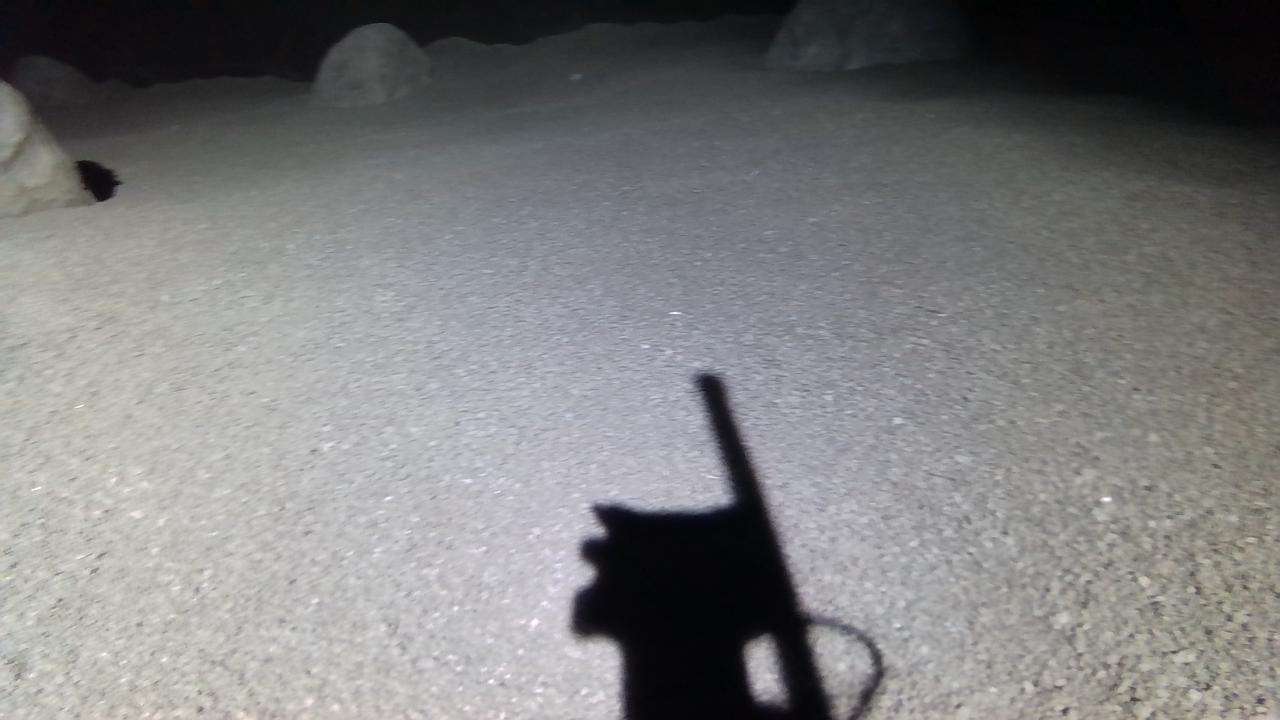rock: (767, 0, 974, 70), (312, 21, 431, 105)
